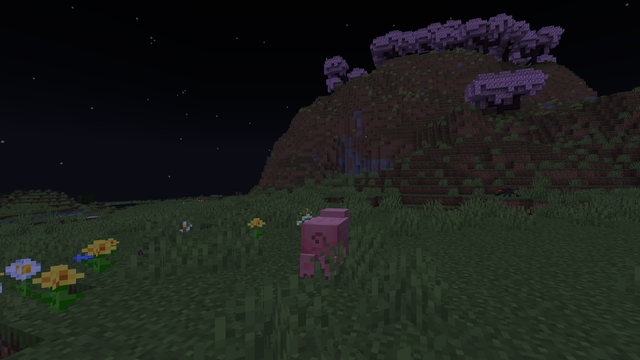araignees: (496, 187, 518, 197)
cochons: (294, 214, 355, 279)
